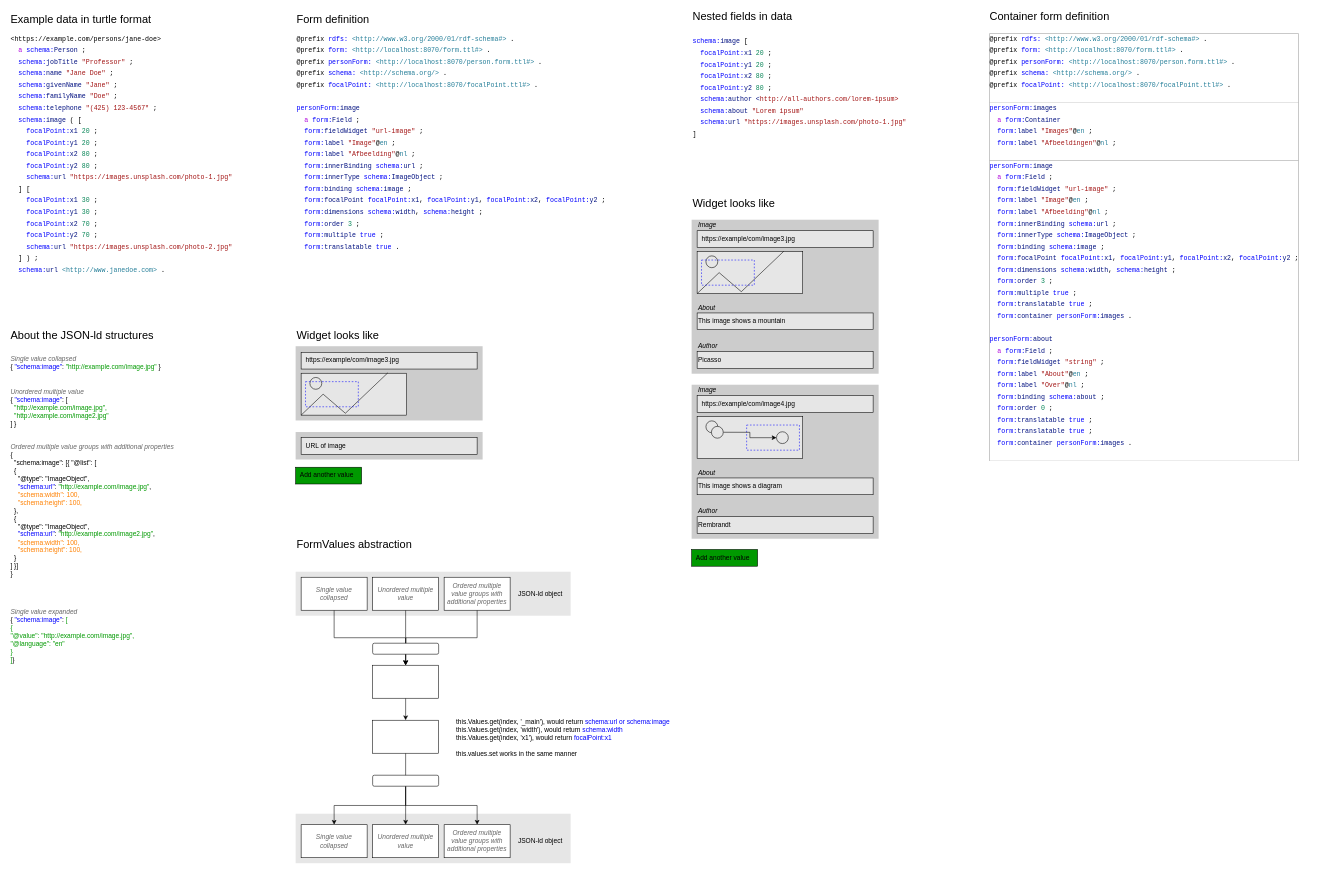
The diagram is 1333 pixels wide and 872 high, and some of its shapes have lost their labels. Each missing label, with the centre of its shape:
"Deserialization" belongs at (405,648).
"FieldValues" belongs at (405,681).
"Image widget Value changes / additions / removals" belongs at (405,736).
"Serialization" belongs at (405,780).
